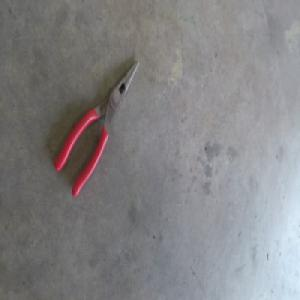Pliers: (56, 63, 140, 199)
